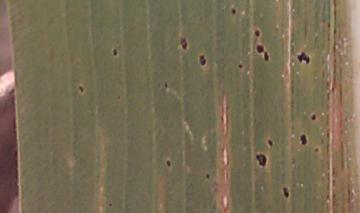tarspot: (296, 49, 310, 65), (255, 152, 267, 167), (255, 42, 265, 54), (299, 133, 308, 145), (253, 27, 262, 39), (198, 54, 207, 66), (179, 37, 188, 49), (262, 49, 270, 62), (282, 186, 290, 199), (229, 7, 238, 16), (77, 84, 85, 94), (111, 46, 118, 56), (267, 138, 273, 147), (166, 157, 171, 167), (163, 80, 169, 88), (204, 172, 210, 179), (313, 146, 320, 152), (310, 114, 316, 121), (237, 63, 244, 69), (117, 93, 121, 101), (107, 202, 113, 207)
